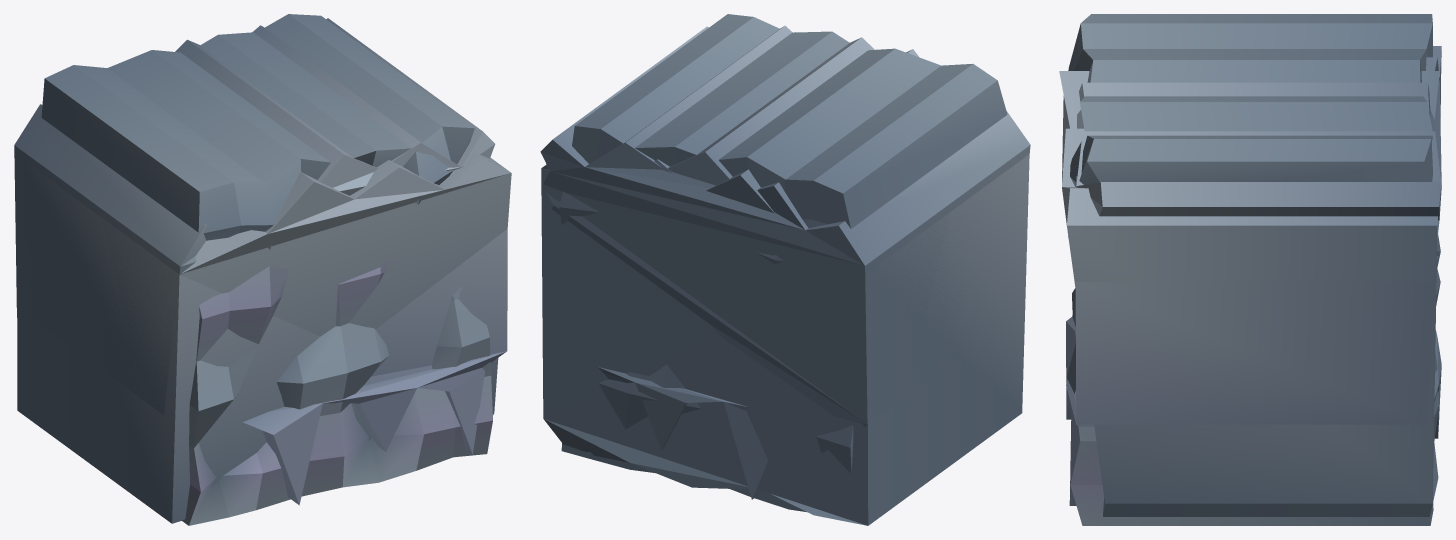
The model's file is world05-rock-kit-v1.glb.
3 renders of one model, left to right at view 1: azimuth 30°, elevation 25°; view 2: azimuth 150°, elevation 25°; view 3: azimuth 270°, elevation 25°, orthographic. The views are drawn at different scales.
Visible parts, largest first — view 1: cave-wall-mesh, cave-ledge-mesh, cave-vault-mesh; view 2: cave-ledge-mesh, cave-vault-mesh, cave-wall-mesh; view 3: cave-vault-mesh, cave-ledge-mesh, cave-wall-mesh.
Part boxes in pixels (x1,y1,x2,y2): cave-wall-mesh: (41, 14, 492, 525); cave-ledge-mesh: (17, 152, 511, 523); cave-vault-mesh: (14, 18, 507, 505); cave-ledge-mesh: (541, 49, 1029, 525); cave-vault-mesh: (540, 25, 1030, 499); cave-wall-mesh: (559, 14, 1007, 511); cave-vault-mesh: (1066, 46, 1441, 505); cave-ledge-mesh: (1059, 71, 1439, 517); cave-wall-mesh: (1067, 14, 1440, 525).
Bounding box in the file's own units: 2 × 1.98 × 1.85.
